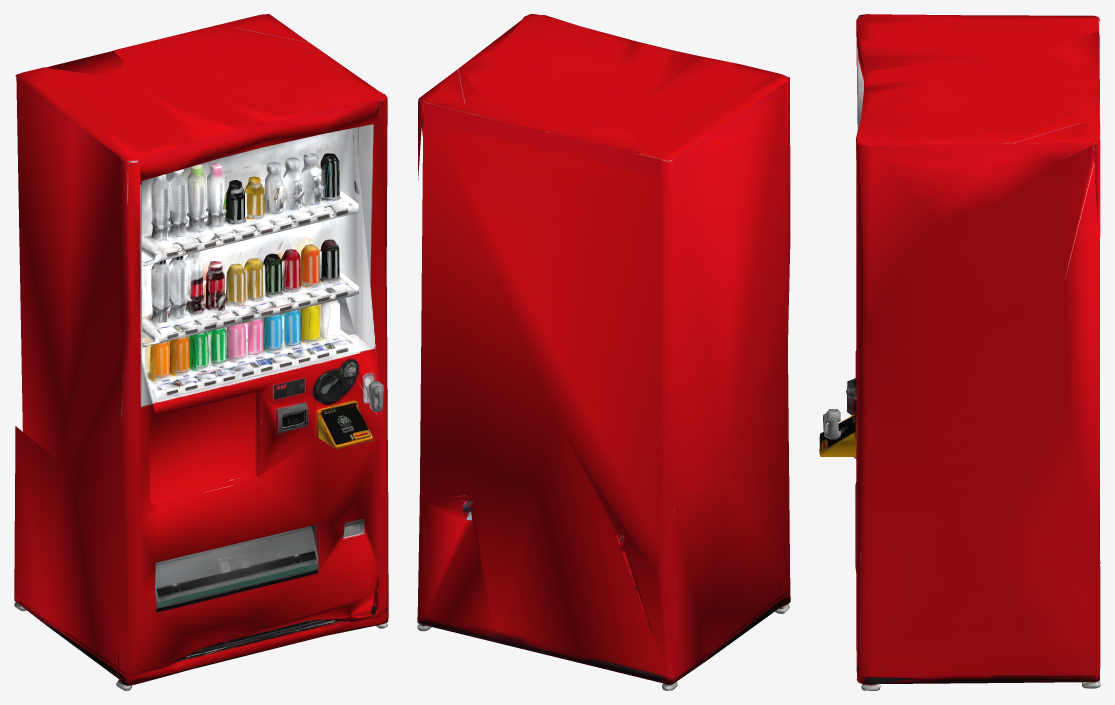
Rendered from Meshy_AI_Rainbow_Vending_Machi_0518132533_texture.fbx.
The picture shows the model from 3 angles, left to right: view 1: azimuth 30°, elevation 25°; view 2: azimuth 150°, elevation 25°; view 3: azimuth 270°, elevation 25°; orthographic projection. The views are drawn at different scales.
Visible parts, largest first — view 1: Mesh_0; view 2: Mesh_0; view 3: Mesh_0.
Boxes of the visible parts, box(x1,y1,x2,y2) form: Mesh_0: box(14, 14, 388, 690); Mesh_0: box(417, 14, 790, 690); Mesh_0: box(819, 14, 1100, 690).
Bounding box in the file's own units: 100 × 191 × 89.16.
1 material, 1 textured.
